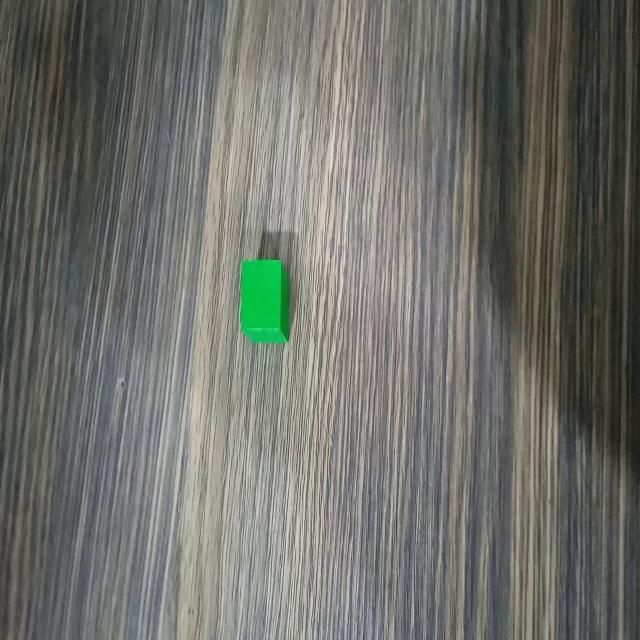cube: (237, 253, 293, 347)
